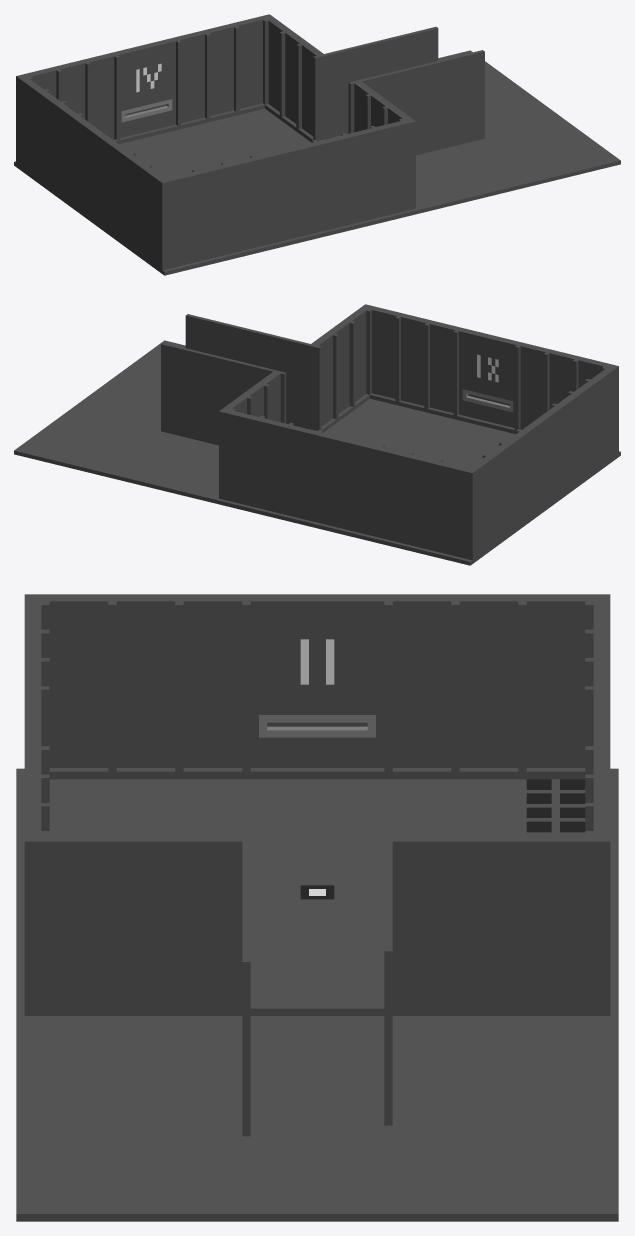
Rendered from Wordwall.obj.
The picture shows the model from 3 angles, top to bottom: view 1: azimuth 30°, elevation 25°; view 2: azimuth 150°, elevation 25°; view 3: azimuth 270°, elevation 25°; orthographic projection. The views are drawn at different scales.
Visible parts, largest first — view 1: Wordwall; view 2: Wordwall; view 3: Wordwall.
Part boxes in pixels (left/top/right/bottom): Wordwall: left=14, top=14, right=620, bottom=275; Wordwall: left=14, top=304, right=620, bottom=565; Wordwall: left=16, top=594, right=618, bottom=1221.
Size of the model in its own units: 126 by 24 by 72.
1 material, 1 textured.
